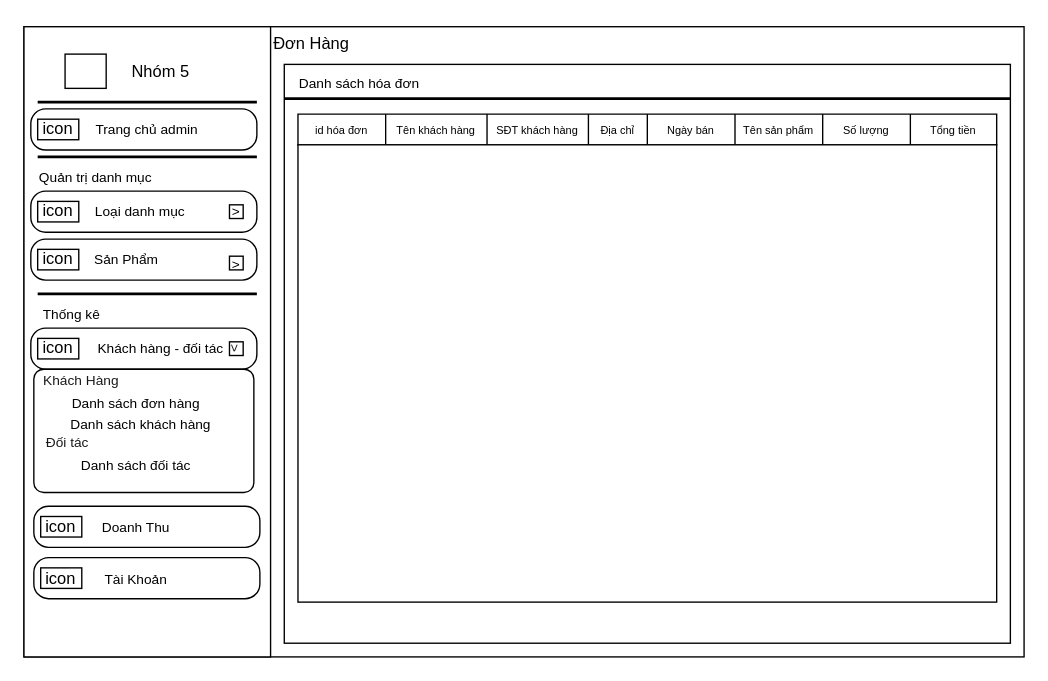
This 1048x681 diagram has some shape labels left out. Here are the shapes that lost their labels. From the top down, the box of each, then its label:
(64, 53, 106, 88): img
(297, 143, 997, 602): ListView
